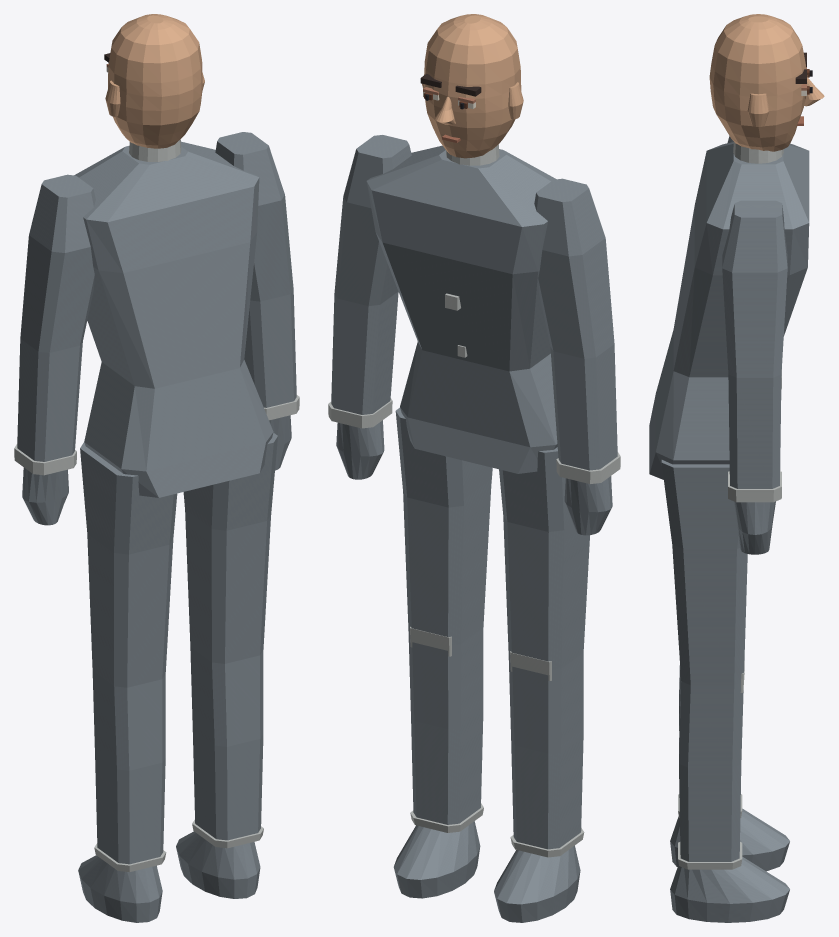
The picture shows the model from 3 angles, left to right: view 1: azimuth 30°, elevation 25°; view 2: azimuth 150°, elevation 25°; view 3: azimuth 270°, elevation 25°; orthographic projection. The views are drawn at different scales.
Parts seen in each view (by area): view 1: 精细体素成年人体母版A（直线肩胯） · frail局部派生, 精细成年头部母版; view 2: 精细体素成年人体母版A（直线肩胯） · frail局部派生, 精细成年头部母版; view 3: 精细体素成年人体母版A（直线肩胯） · frail局部派生, 精细成年头部母版.
Part boxes in pixels (bbox=[...]): 精细体素成年人体母版A（直线肩胯） · frail局部派生: bbox=[14, 132, 299, 922]; 精细成年头部母版: bbox=[104, 14, 204, 148]; 精细体素成年人体母版A（直线肩胯） · frail局部派生: bbox=[328, 135, 620, 922]; 精细成年头部母版: bbox=[420, 14, 523, 158]; 精细体素成年人体母版A（直线肩胯） · frail局部派生: bbox=[649, 136, 809, 922]; 精细成年头部母版: bbox=[709, 14, 824, 151].
Bounding box in the file's own units: 0.5458 × 1.68 × 0.3076.
9 materials, 9 textured.
